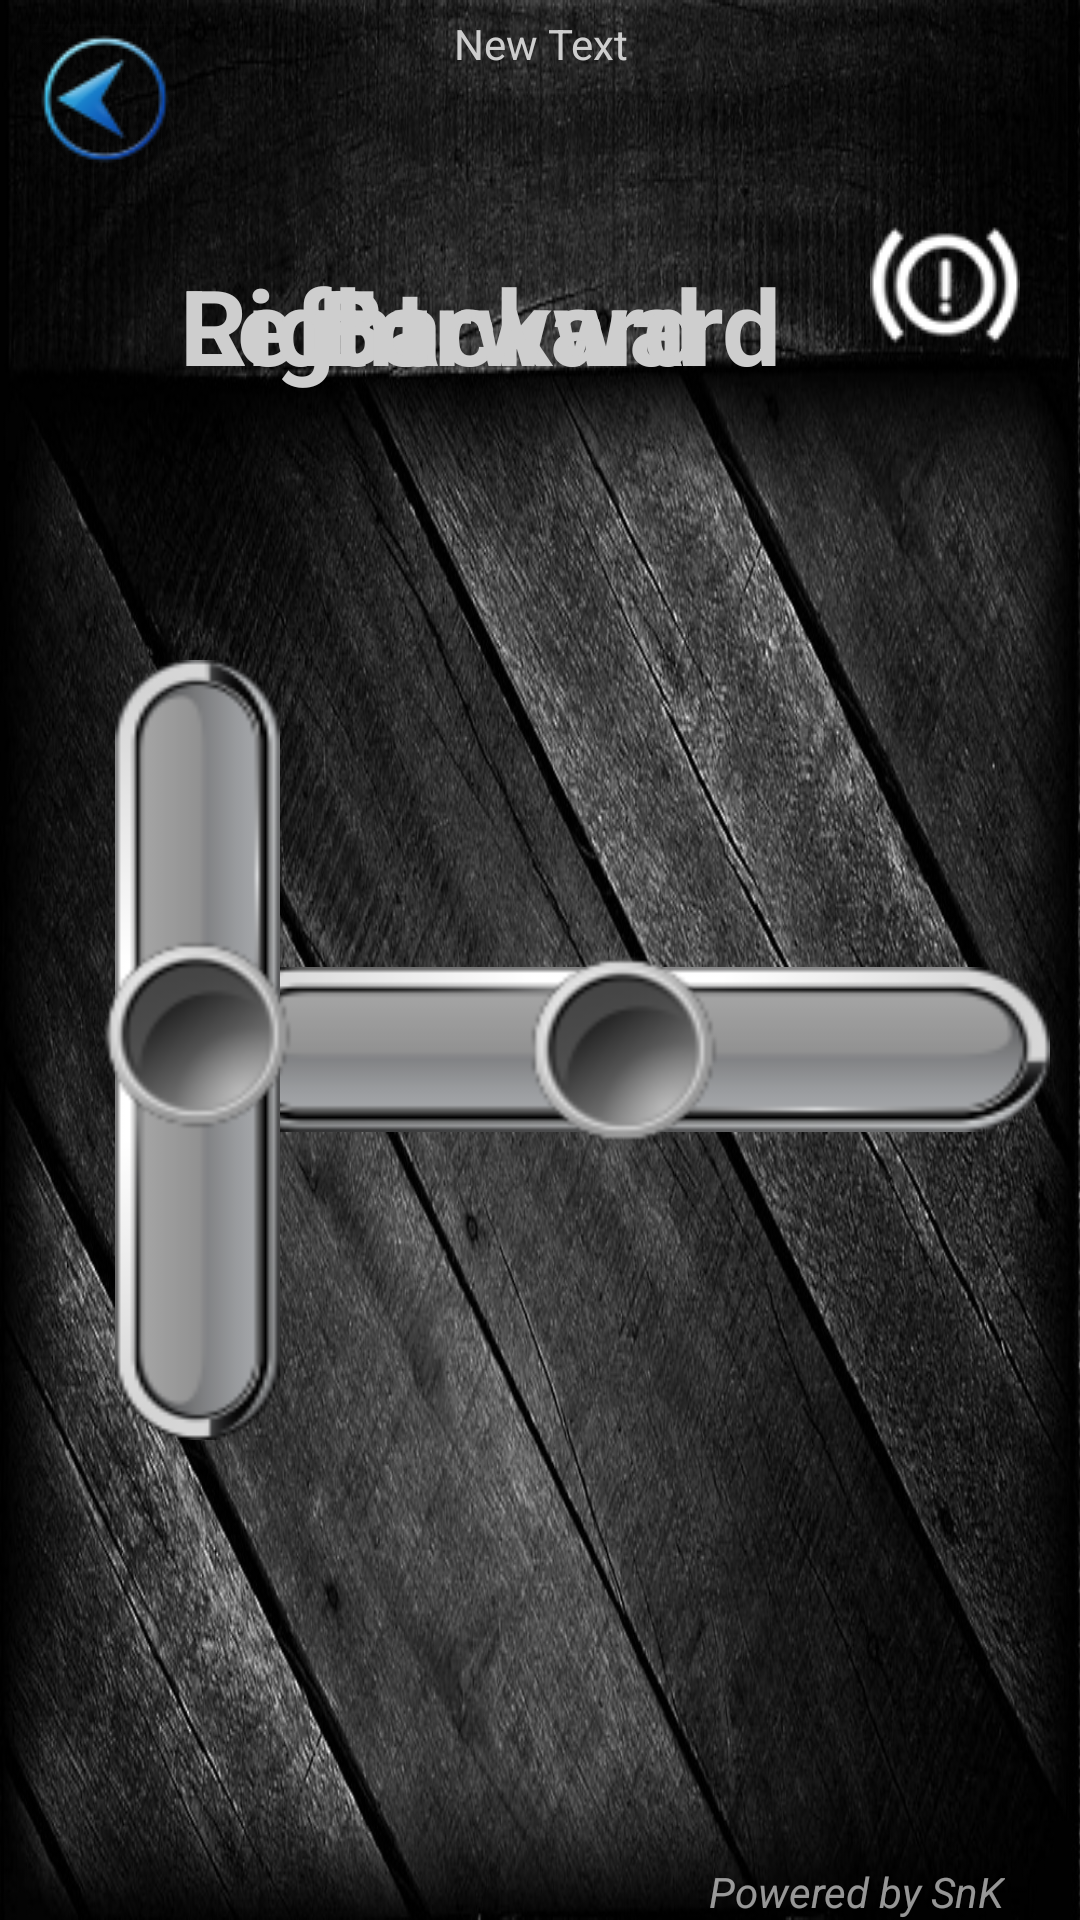

Icons on this 1080*1920 Android screen, each with the point to tap as (x,y):
back before click: (108,101)
warning: (945,282)
